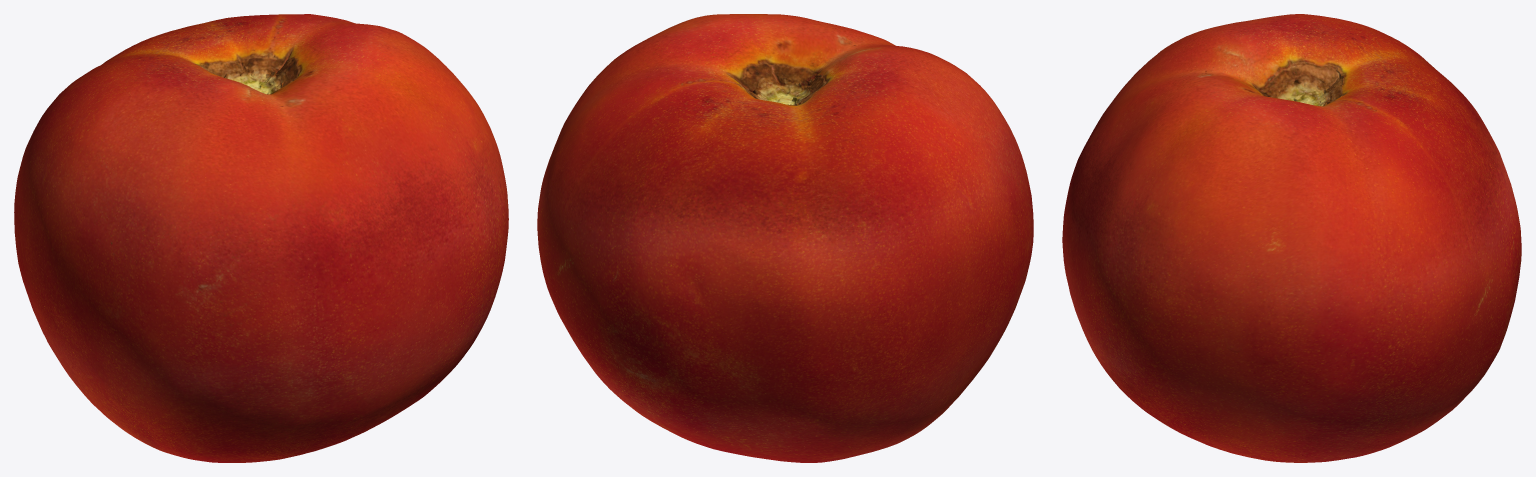
Rendered from tomato.glb.
The picture shows the model from 3 angles, left to right: view 1: azimuth 30°, elevation 25°; view 2: azimuth 150°, elevation 25°; view 3: azimuth 270°, elevation 25°; orthographic projection. The views are drawn at different scales.
Visible parts, largest first — view 1: Model; view 2: Model; view 3: Model.
Part boxes in pixels (x1,y1,x2,y2): Model: [14, 14, 508, 462]; Model: [537, 14, 1033, 462]; Model: [1062, 14, 1521, 462].
Size of the model in its own units: 1.37 by 1.2 by 1.31.
1 material, 1 textured.
